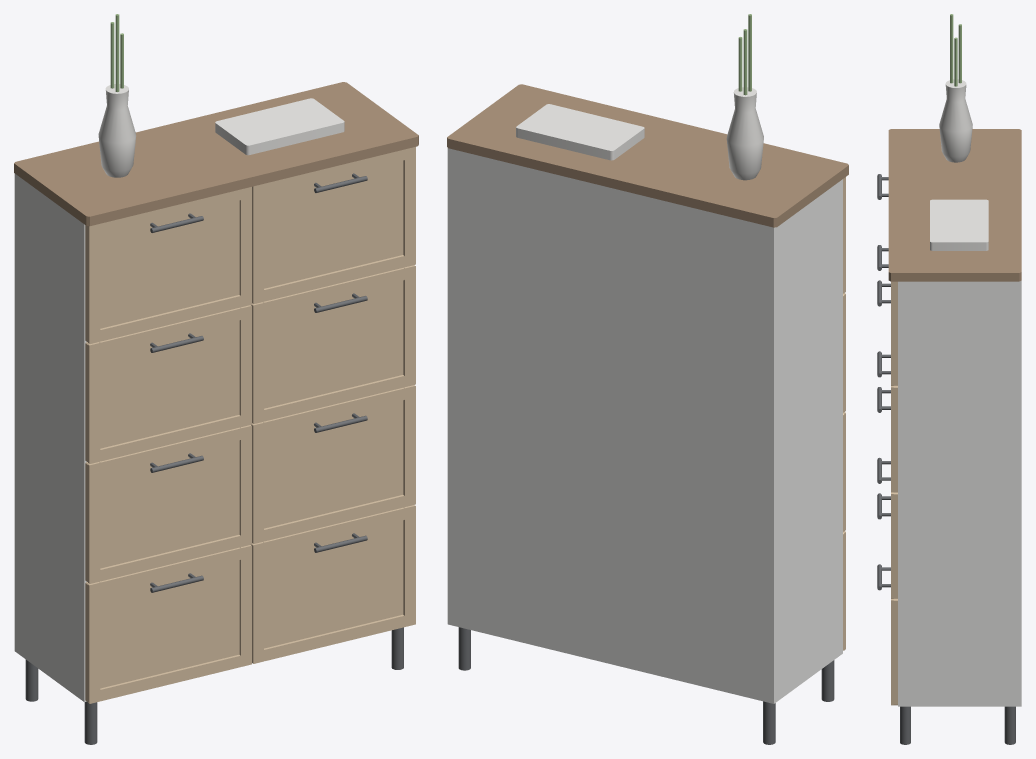
The picture shows the model from 3 angles, left to right: view 1: azimuth 30°, elevation 25°; view 2: azimuth 150°, elevation 25°; view 3: azimuth 270°, elevation 25°; orthographic projection. The views are drawn at different scales.
Parts seen in each view (by area): view 1: Tủ giày Dài=900; Sâu=350; view 2: Tủ giày Dài=900; Sâu=350; view 3: Tủ giày Dài=900; Sâu=350.
Part boxes in pixels (x1,y1,x2,y2): Tủ giày Dài=900; Sâu=350: [14, 14, 418, 744]; Tủ giày Dài=900; Sâu=350: [447, 14, 848, 744]; Tủ giày Dài=900; Sâu=350: [877, 14, 1021, 744].
Bounding box in the file's own units: 0.91 × 1.82 × 0.385.
